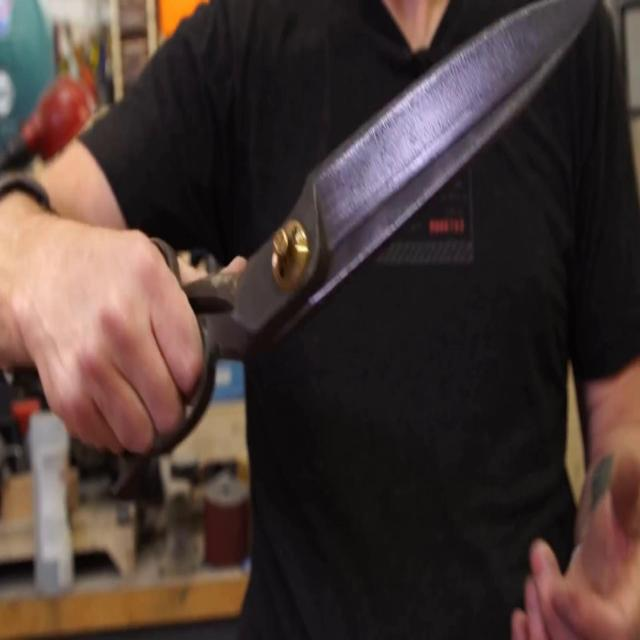scissor: (51, 0, 596, 501)
